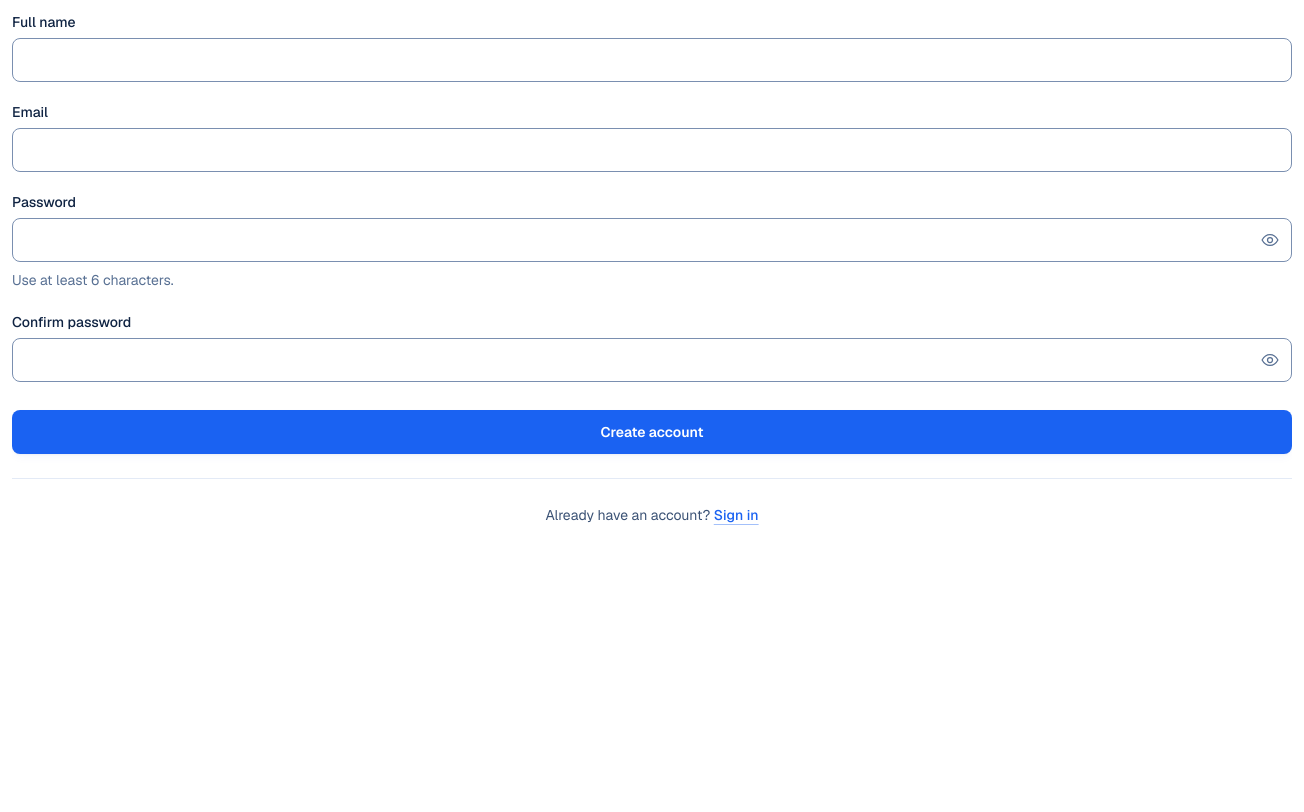
RegisterForm › moves focus to the first invalid field after a validation failure
This screenshot has width=1304, height=812.
Click the button "Create account" at point(652, 432), box top-left (12, 410), bottom-right (1292, 454)
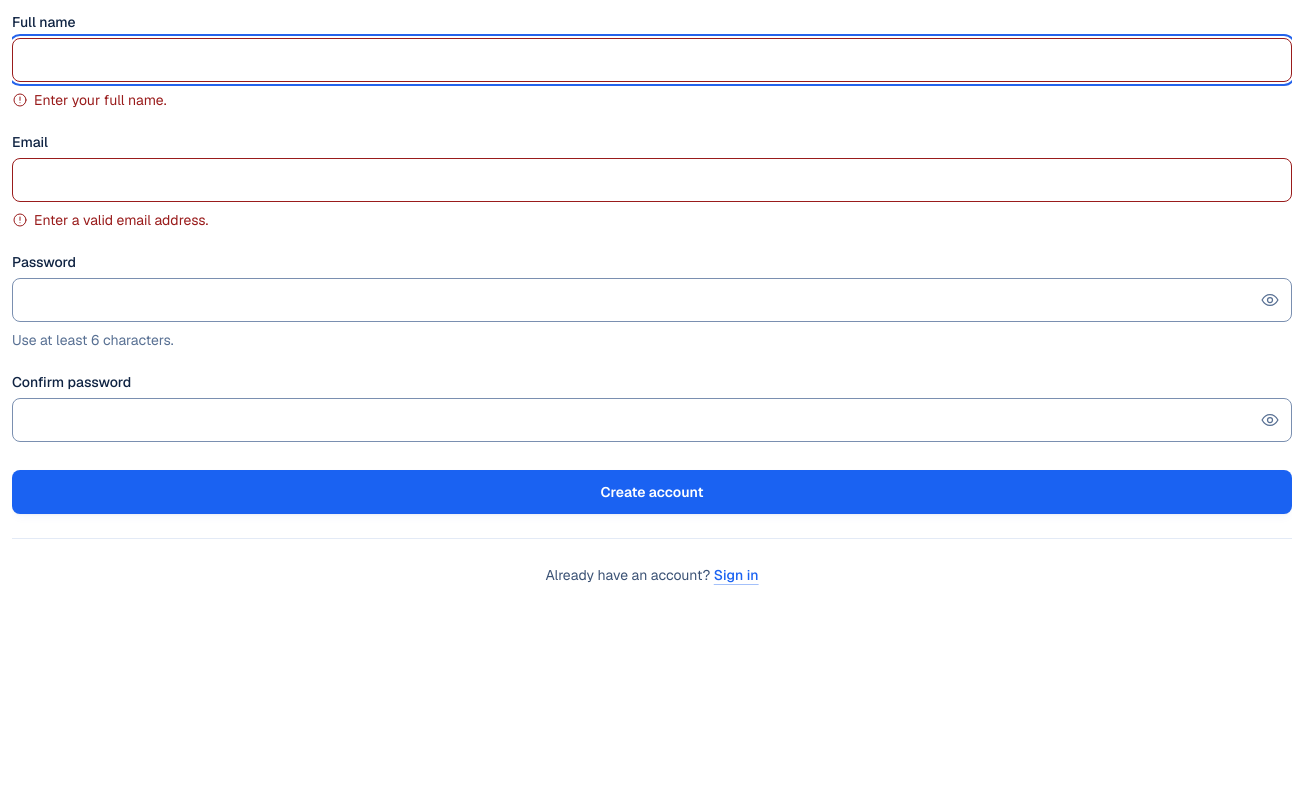
Result: the text "Enter your full name." is shown at top-left (34, 88), bottom-right (166, 112)
